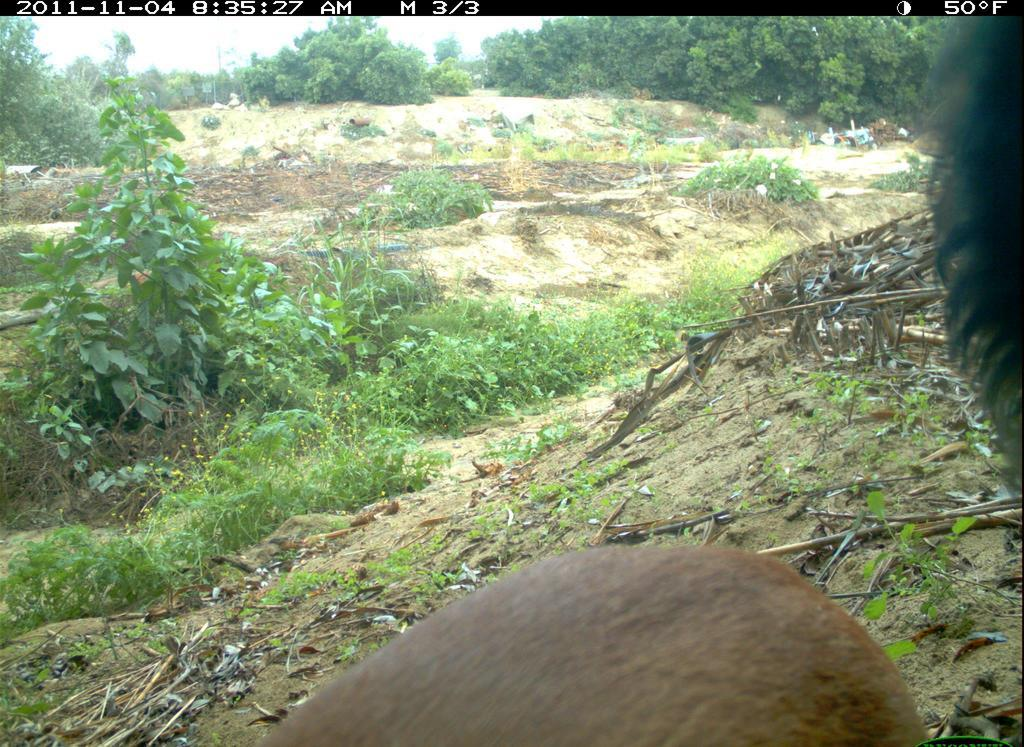dog: (210, 533, 941, 744), (914, 4, 1023, 507)
